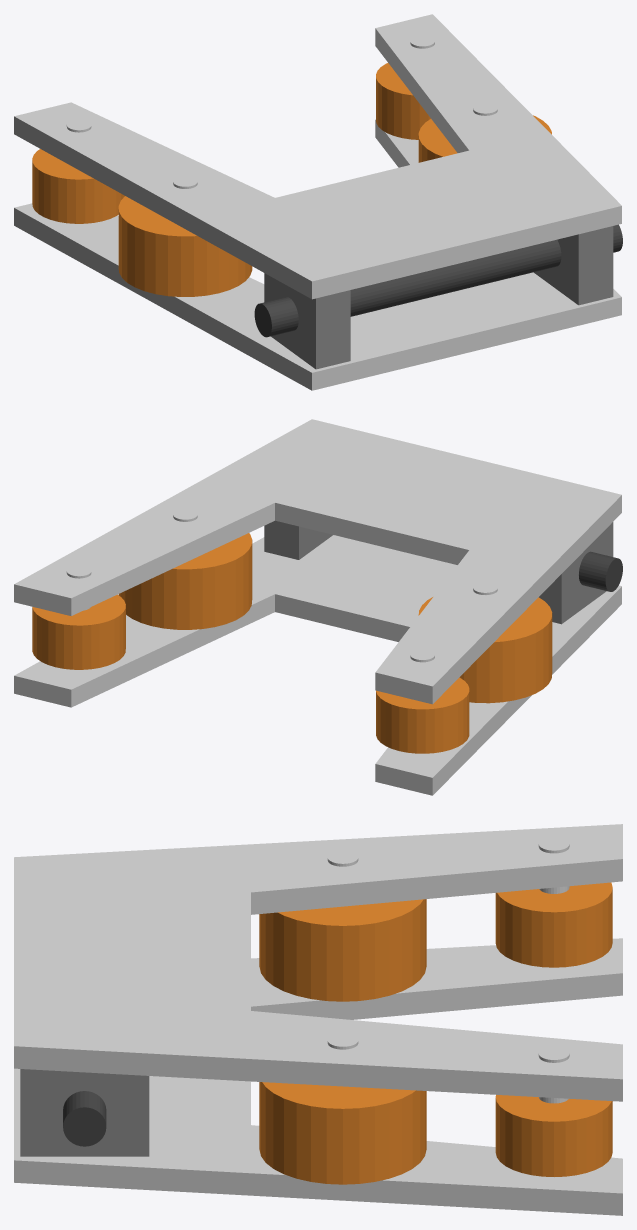
3 renders of one model, top to bottom at view 1: azimuth 30°, elevation 25°; view 2: azimuth 150°, elevation 25°; view 3: azimuth 270°, elevation 25°, orthographic. The views are drawn at different scales.
Parts seen in each view (by area): view 1: Claw; view 2: Claw; view 3: Claw.
Part boxes in pixels (x1,y1,x2,y2): Claw: (14,14,622,390); Claw: (14,419,622,795); Claw: (14,824,622,1215).
Bounding box in the file's own units: 0.3074 × 0.0788 × 0.3056.
